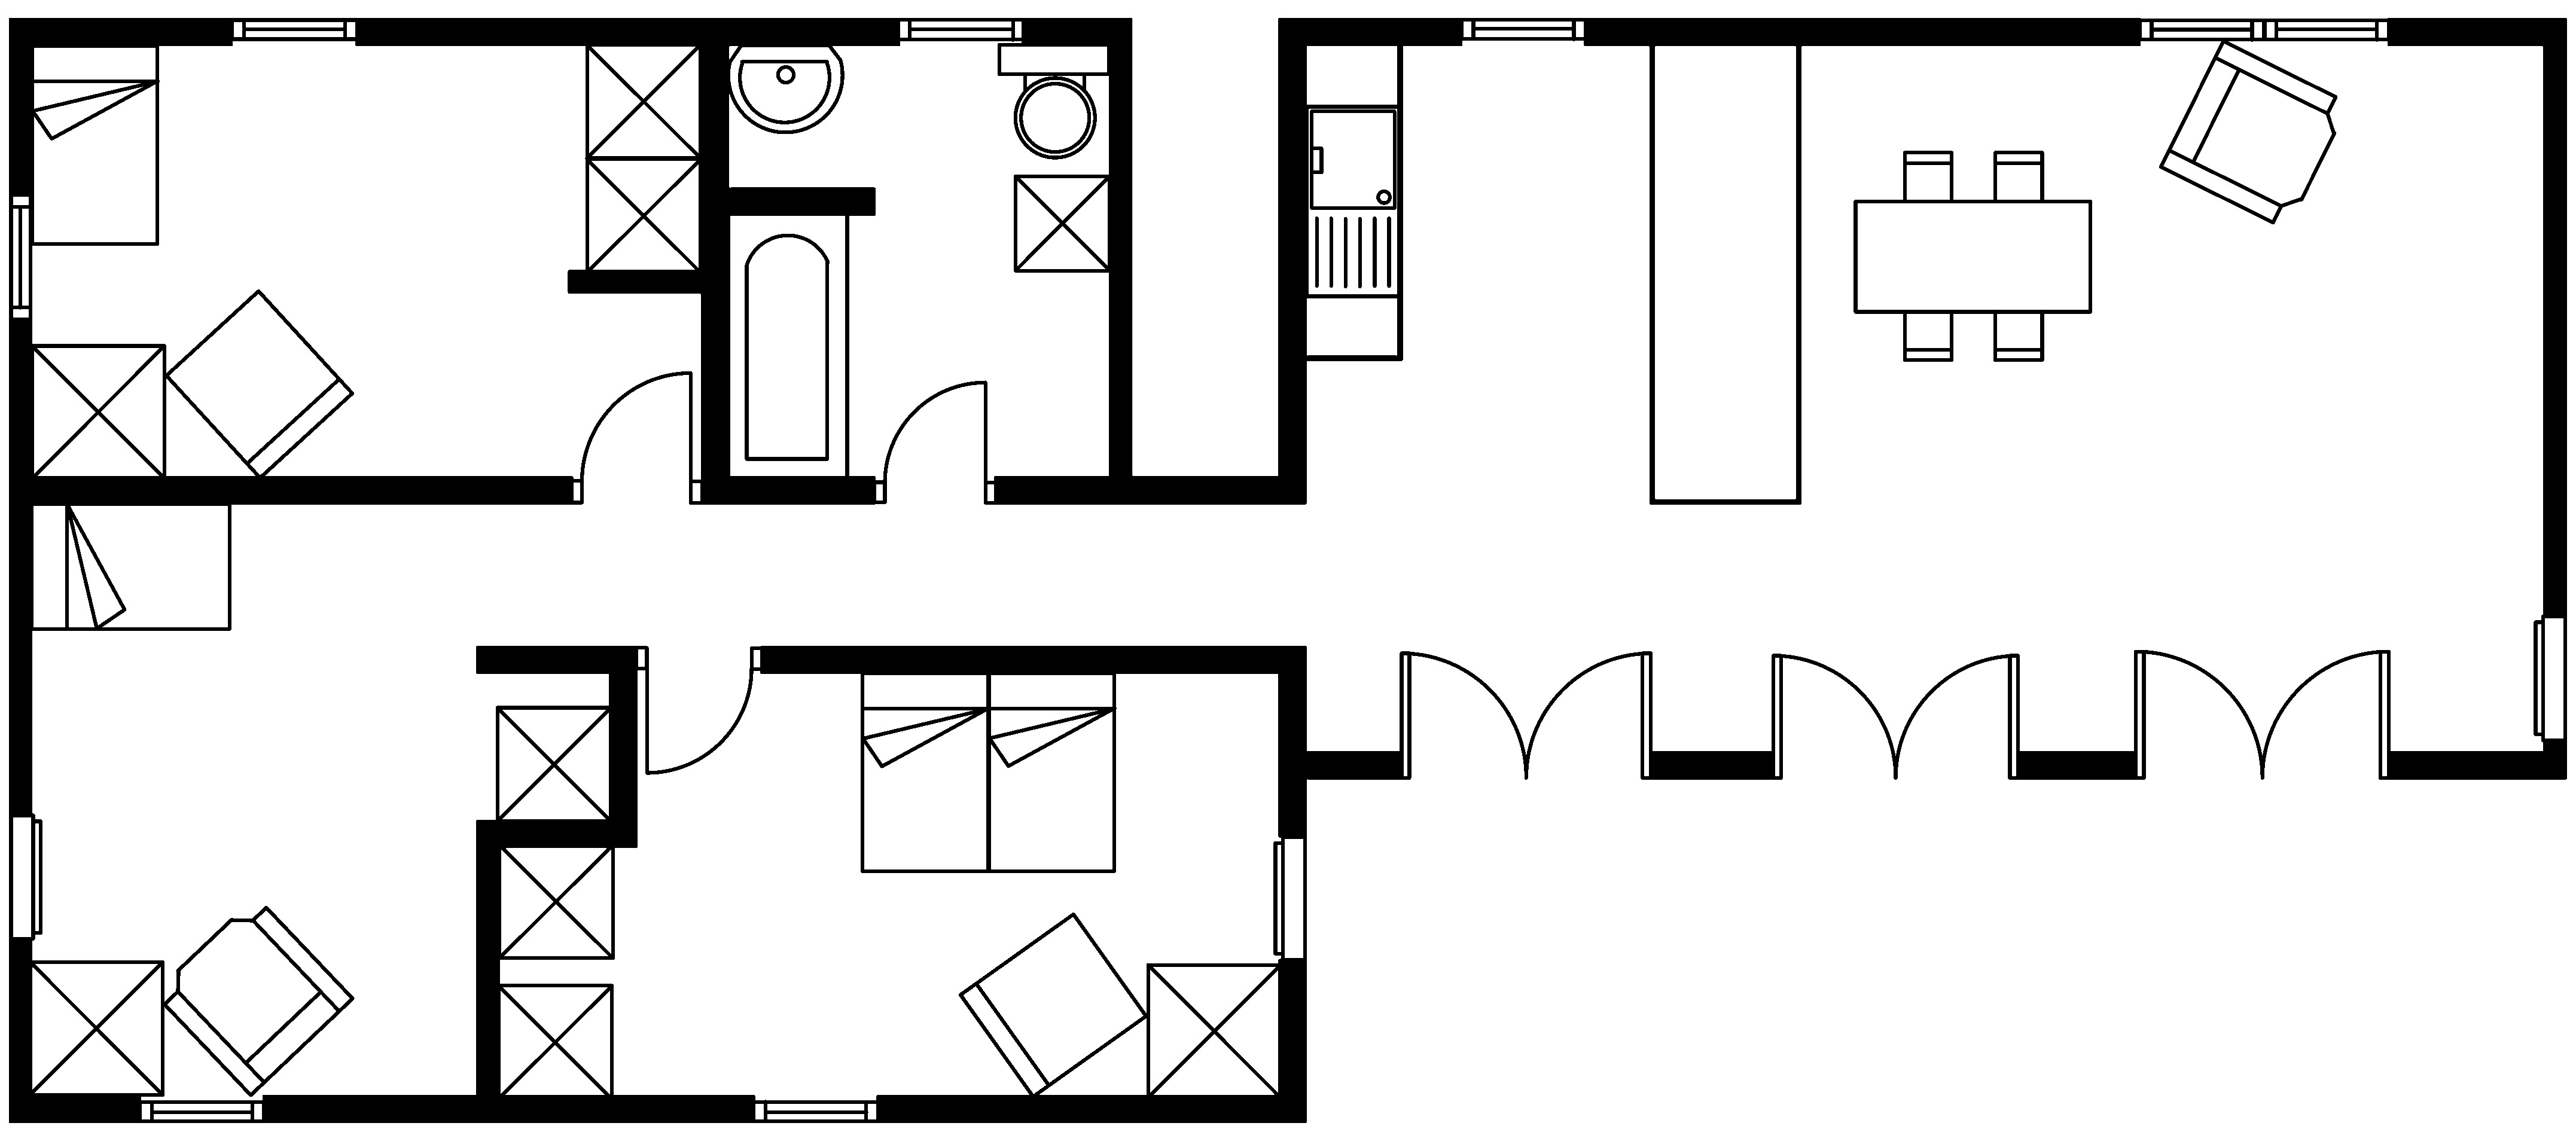armchair: (161, 905, 355, 1097), (2159, 38, 2338, 223)
bed: (859, 670, 991, 872), (986, 670, 1117, 872), (28, 501, 232, 631), (30, 43, 159, 246)
coffee_table: (26, 959, 164, 1097), (1145, 963, 1283, 1099), (30, 343, 166, 480), (583, 41, 702, 161), (494, 982, 614, 1101), (494, 705, 613, 823), (496, 841, 614, 959), (585, 156, 702, 274), (1012, 174, 1112, 273)
dining_table: (1853, 150, 2093, 361)
large_sink: (997, 41, 1111, 158)
sink: (1304, 104, 1401, 297)
small_sink: (726, 43, 843, 133)
small_sofa: (163, 288, 355, 480), (958, 912, 1148, 1099)
tub: (726, 210, 849, 483)
